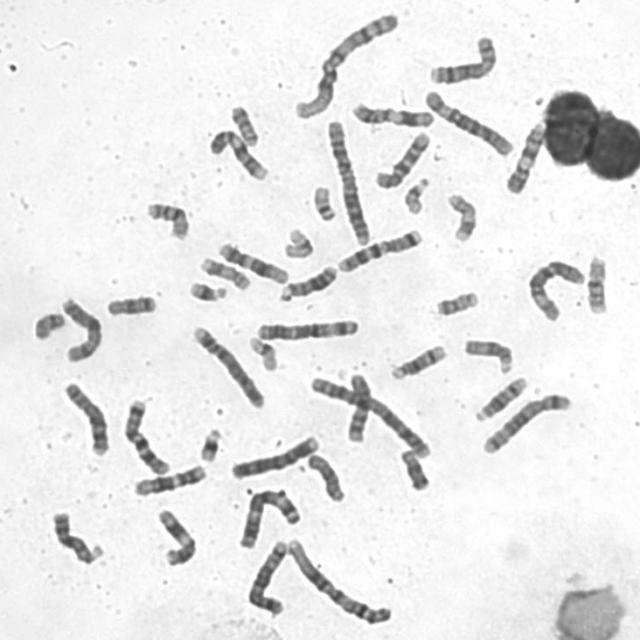A1: (289, 9, 402, 121), (282, 534, 396, 627)
A2: (305, 373, 434, 460), (322, 116, 372, 247)
A3: (234, 484, 302, 550), (252, 315, 362, 343)
B4: (188, 322, 267, 410), (226, 432, 322, 482)
B5: (478, 390, 573, 456), (243, 537, 291, 617)
C10: (370, 127, 432, 191), (343, 369, 372, 445)
C11: (153, 506, 198, 568), (348, 99, 437, 129)
C12: (214, 238, 290, 286), (130, 461, 209, 498)
C6: (420, 87, 516, 158), (524, 256, 586, 324)
C7: (334, 226, 425, 274), (120, 395, 172, 477)
C8: (59, 378, 112, 458), (426, 33, 498, 86)
C9: (205, 126, 271, 182), (502, 119, 547, 196)
D13: (48, 507, 106, 567), (276, 260, 340, 304)
D14: (472, 372, 530, 423), (388, 341, 448, 382)
D15: (303, 450, 347, 504), (460, 335, 516, 375)
E16: (142, 198, 192, 242), (582, 252, 610, 316)
E17: (195, 253, 253, 292), (443, 190, 479, 244)
E18: (396, 446, 432, 493), (102, 292, 158, 318)
F19: (245, 333, 279, 372), (282, 224, 316, 260)
F20: (227, 101, 260, 148), (432, 288, 481, 318)
G21: (195, 424, 224, 465), (185, 278, 228, 304)
G22: (400, 173, 432, 216), (309, 181, 338, 223)
X: (57, 294, 104, 364)
